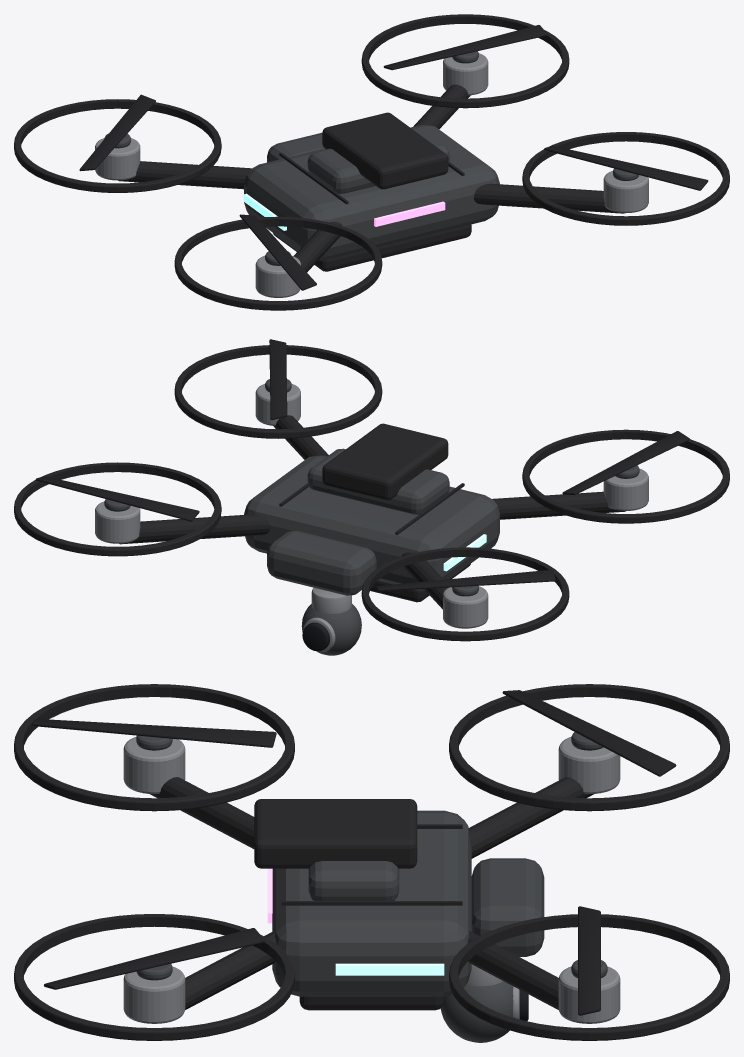
File: drone.glb
3 renders of one model, top to bottom at view 1: azimuth 30°, elevation 25°; view 2: azimuth 150°, elevation 25°; view 3: azimuth 270°, elevation 25°, orthographic. The views are drawn at different scales.
Visible parts, largest first — view 1: drone_hull, rotor_3, rotor_0, rotor_2, rotor_1; view 2: drone_hull, gimbal, rotor_1, rotor_0, rotor_2, rotor_3; view 3: drone_hull, gimbal, rotor_2, rotor_3, rotor_1, rotor_0.
Boxes of the visible parts, bbox=[...] form: drone_hull: bbox=[14, 14, 729, 310]; rotor_3: bbox=[544, 145, 708, 190]; rotor_0: bbox=[383, 25, 547, 70]; rotor_2: bbox=[239, 214, 316, 290]; rotor_1: bbox=[79, 94, 155, 171]; drone_hull: bbox=[14, 345, 729, 641]; gimbal: bbox=[301, 587, 361, 655]; rotor_1: bbox=[375, 569, 555, 591]; rotor_0: bbox=[36, 476, 199, 521]; rotor_2: bbox=[562, 431, 689, 494]; rotor_3: bbox=[269, 339, 287, 420]; drone_hull: bbox=[14, 684, 729, 1040]; gimbal: bbox=[440, 964, 528, 1042]; rotor_2: bbox=[32, 719, 276, 747]; rotor_3: bbox=[44, 928, 264, 989]; rotor_1: bbox=[502, 690, 676, 776]; rotor_0: bbox=[578, 906, 600, 1015].
Size of the model in its own units: 0.91 by 0.2675 by 0.79.
